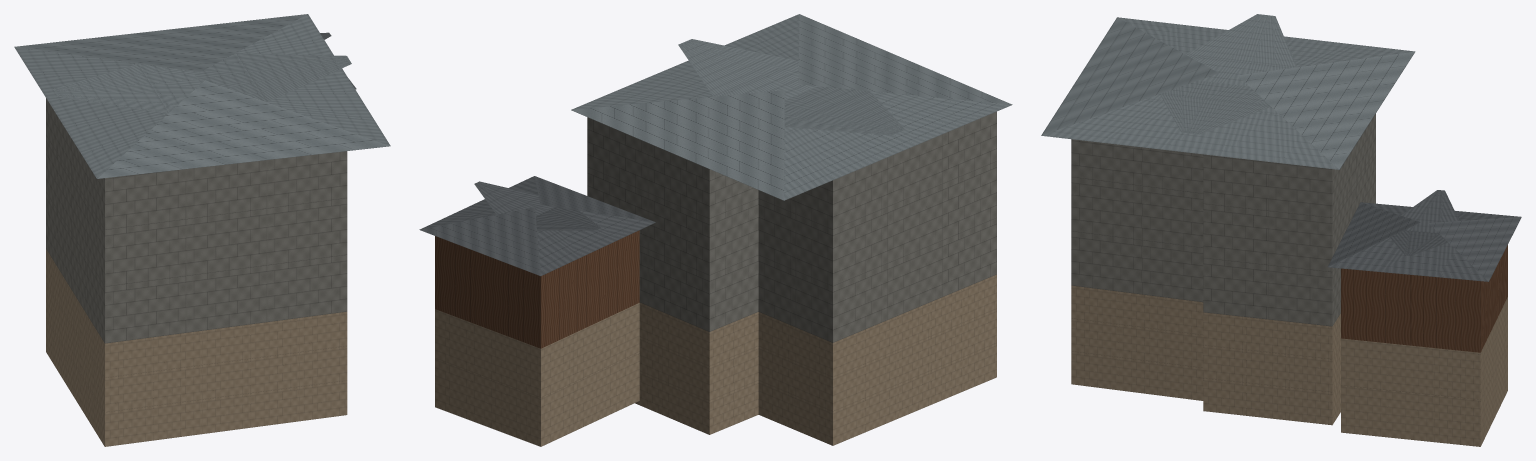
The model's file is bld_c40_-47_457.gltf.
3 views of the same model, side by side, from view 1: azimuth 30°, elevation 25°; view 2: azimuth 150°, elevation 25°; view 3: azimuth 270°, elevation 25° (orthographic). The views are drawn at different scales.
Parts seen in each view (by area): view 1: bld_c40_-47_457; view 2: bld_c40_-47_457; view 3: bld_c40_-47_457.
Boxes of the visible parts, bbox=[...] form: bld_c40_-47_457: bbox=[14, 14, 390, 446]; bld_c40_-47_457: bbox=[419, 14, 1012, 446]; bld_c40_-47_457: bbox=[1041, 14, 1521, 446].
Size of the model in its own units: 20.73 by 14.5 by 22.51.
5 materials, 5 textured.
